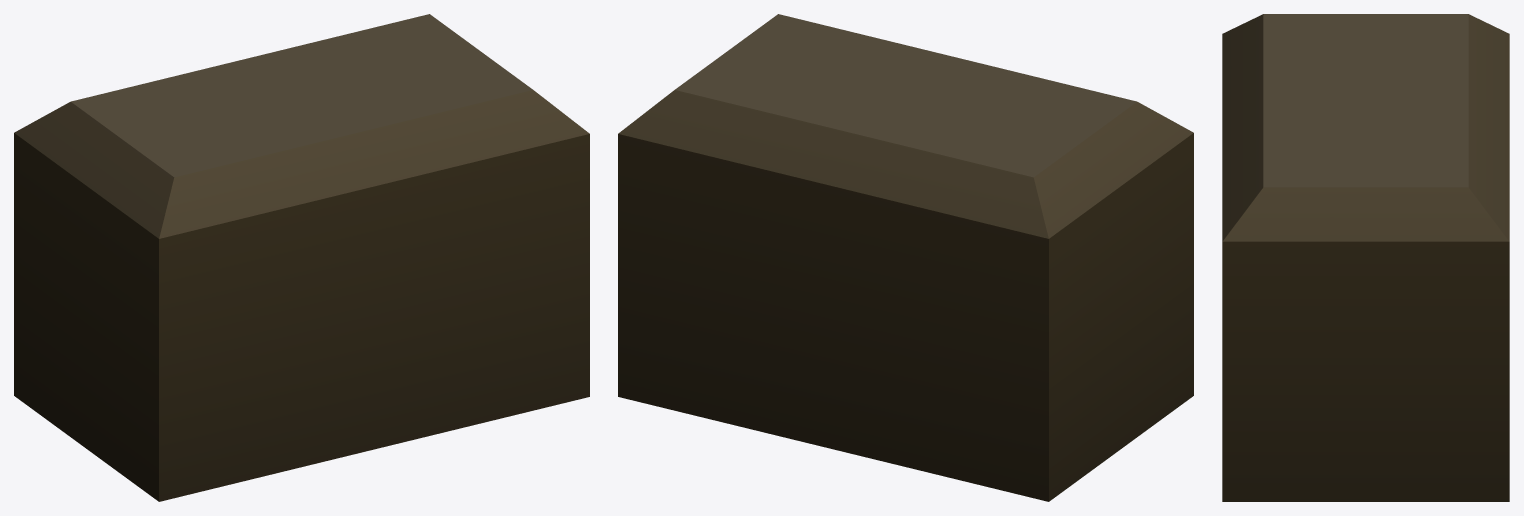
File: stone-wall.glb
3 views of the same model, side by side, from view 1: azimuth 30°, elevation 25°; view 2: azimuth 150°, elevation 25°; view 3: azimuth 270°, elevation 25° (orthographic).
Visible parts, largest first — view 1: stone-wall; view 2: stone-wall; view 3: stone-wall.
Boxes of the visible parts, x1=… form: stone-wall: x1=14, y1=14, x2=589, y2=501; stone-wall: x1=618, y1=14, x2=1193, y2=501; stone-wall: x1=1222, y1=14, x2=1509, y2=501.
Bounding box in the file's own units: 0.24 × 0.16 × 0.14.
